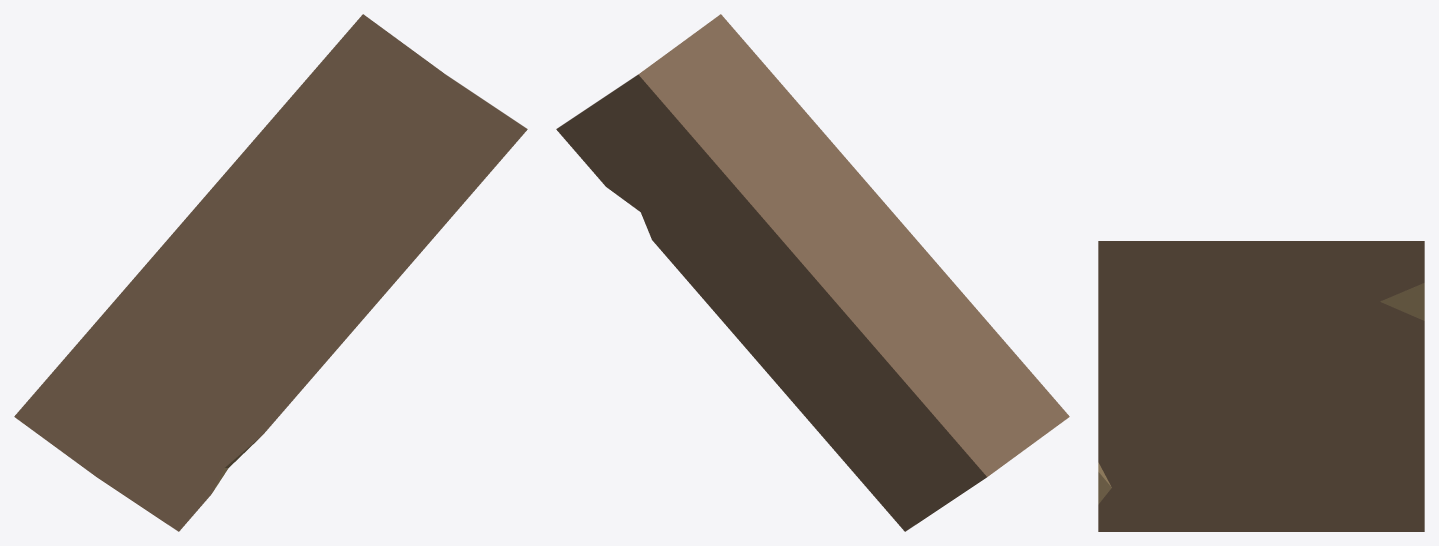
File: Cave_Prop_Support_Corner_Brace_2.glb
The picture shows the model from 3 angles, left to right: view 1: azimuth 30°, elevation 25°; view 2: azimuth 150°, elevation 25°; view 3: azimuth 270°, elevation 25°; orthographic projection. The views are drawn at different scales.
Visible parts, largest first — view 1: Cave_Prop_Support_Corner_Brace_2; view 2: Cave_Prop_Support_Corner_Brace_2; view 3: Cave_Prop_Support_Corner_Brace_2.
Part boxes in pixels (x1,y1,x2,y2): Cave_Prop_Support_Corner_Brace_2: (14,14,527,531); Cave_Prop_Support_Corner_Brace_2: (556,14,1069,531); Cave_Prop_Support_Corner_Brace_2: (1098,241,1424,531).
Size of the model in its own units: 0.6029 by 0.5243 by 0.2.
